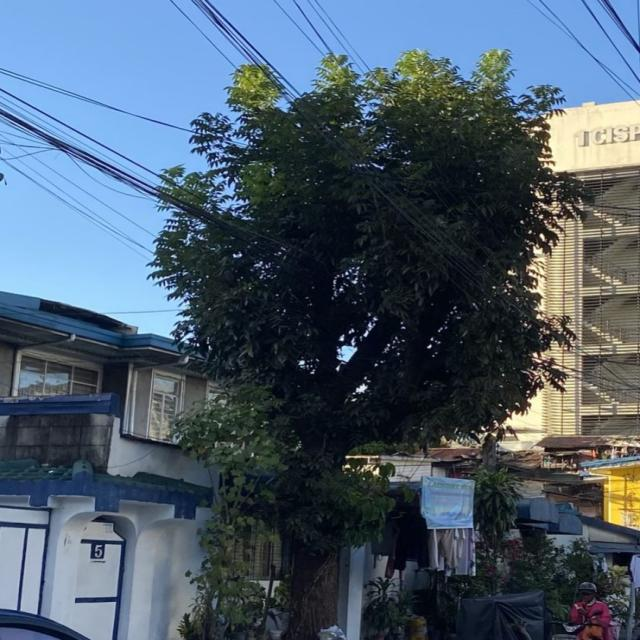Mango-Tree: (130, 37, 590, 626)
